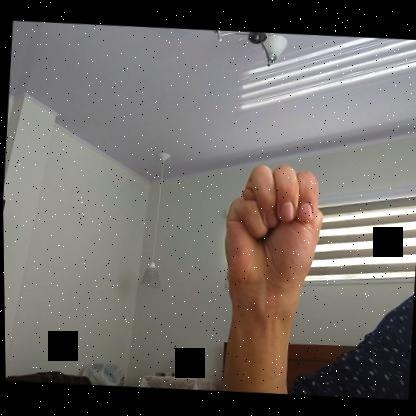M: (217, 158, 329, 301)
